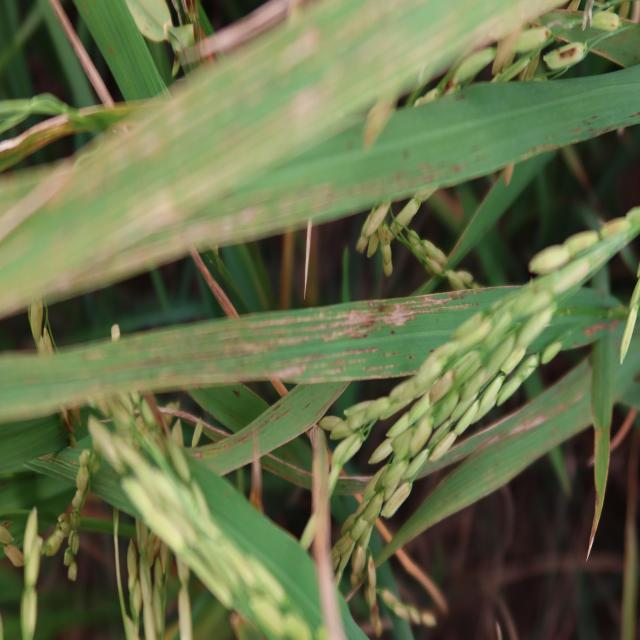Dom soc vi khuan: (233, 290, 466, 347), (273, 364, 302, 380)
